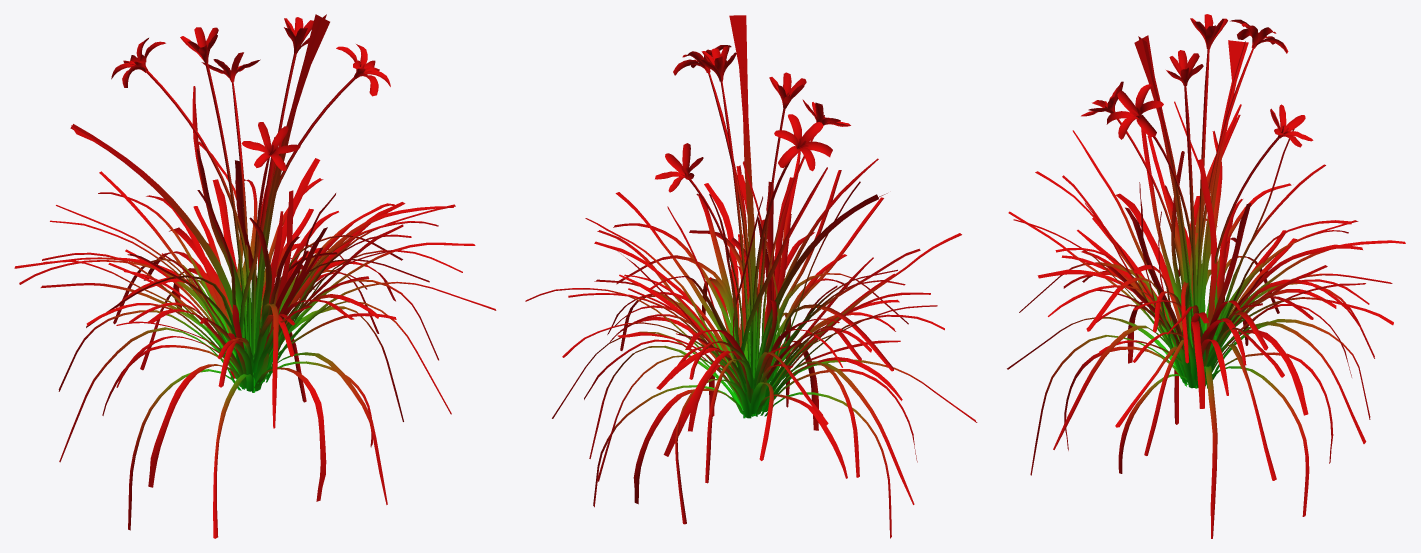
The model's file is White Windflower_LOD0_Var1_sktlN.fbx.
The picture shows the model from 3 angles, left to right: view 1: azimuth 30°, elevation 25°; view 2: azimuth 150°, elevation 25°; view 3: azimuth 270°, elevation 25°; orthographic projection. The views are drawn at different scales.
Visible parts, largest first — view 1: _4a81_Var1_LOD0; view 2: _4a81_Var1_LOD0; view 3: _4a81_Var1_LOD0.
Boxes of the visible parts, left/top/right/bottom form: _4a81_Var1_LOD0: left=14, top=14, right=496, bottom=538; _4a81_Var1_LOD0: left=525, top=15, right=977, bottom=538; _4a81_Var1_LOD0: left=1007, top=14, right=1405, bottom=538.
Bounding box in the file's own units: 83.09 × 95.52 × 73.61.
